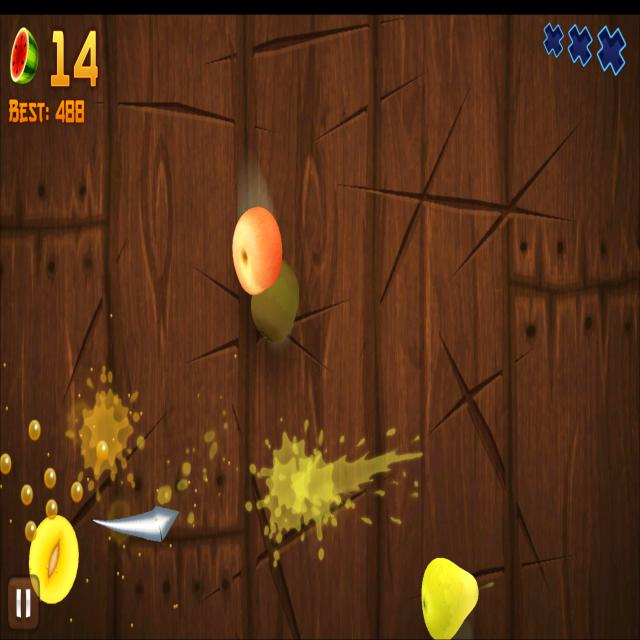fruit: (422, 556, 479, 639), (232, 205, 284, 295), (250, 259, 300, 343)
